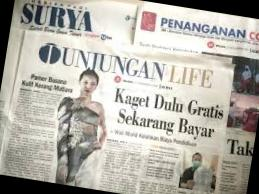Kertas: (0, 23, 242, 194)
